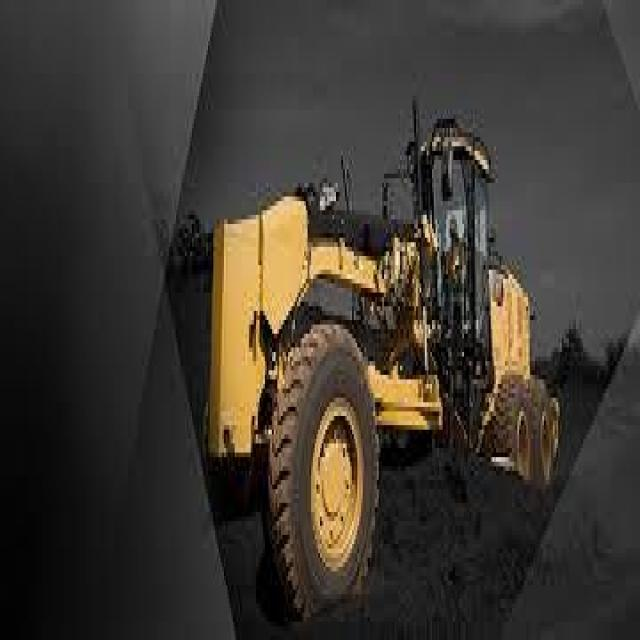Grader: (160, 110, 562, 608)
